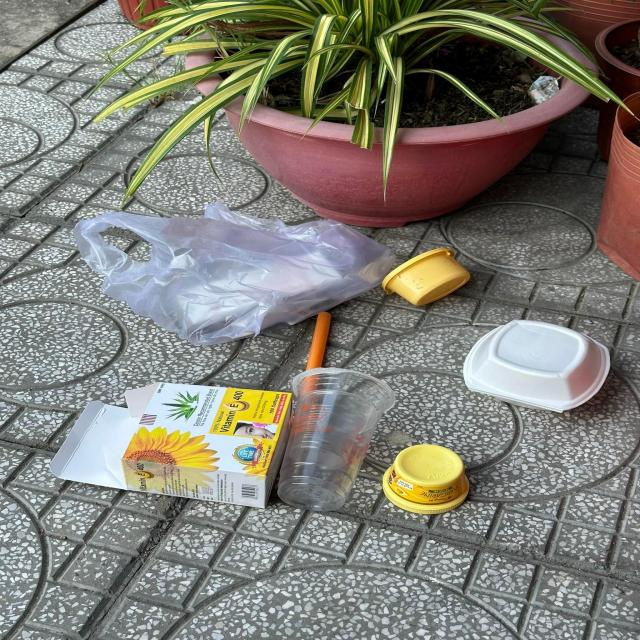bag: (74, 205, 400, 346)
cardboard box: (52, 382, 292, 510)
drinking straw: (292, 313, 330, 429)
foam box: (463, 320, 611, 414)
plastic glass: (279, 368, 396, 507)
plastic holder: (381, 446, 472, 512), (382, 248, 472, 307)
